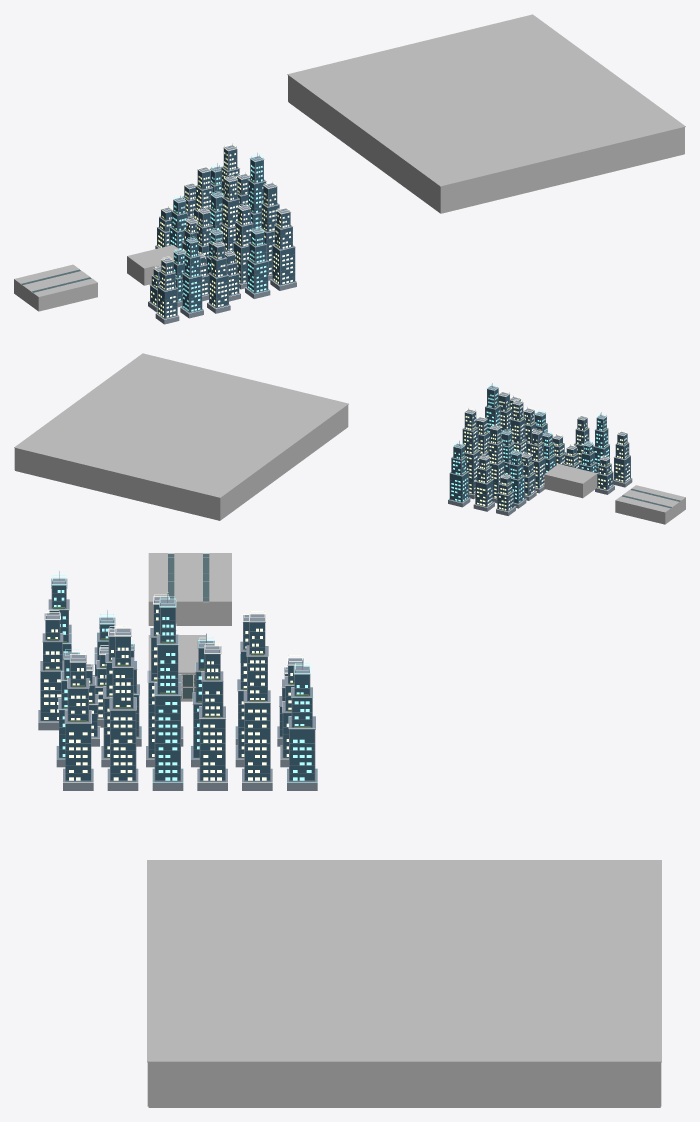
File: The_Commons_Compact.gltf
The picture shows the model from 3 angles, top to bottom: view 1: azimuth 30°, elevation 25°; view 2: azimuth 150°, elevation 25°; view 3: azimuth 270°, elevation 25°; orthographic projection. The views are drawn at different scales.
Visible parts, largest first — view 1: KART_Roof__MAT_KartSteel, ENV_City__MAT_CityGlazing, ENV_City__MAT_CityStone, KART_ShellSouth__MAT_KartConcrete, KART_ShellWest__MAT_KartConcrete, ENV_City__MAT_CityWarm, ENV_City__MAT_CityCool, FPV_Shell__MAT_Steel, FPV_Shell__MAT_FPVWall, ARCH_Shell__MAT_Steel; view 2: KART_Roof__MAT_KartSteel, ENV_City__MAT_CityGlazing, ENV_City__MAT_CityStone, KART_ShellNorth__MAT_KartConcrete, KART_ShellWest__MAT_KartConcrete, ENV_City__MAT_CityWarm, ENV_City__MAT_CityCool, FPV_Shell__MAT_Steel, FPV_Shell__MAT_FPVWall, ARCH_Shell__MAT_Plaster, ARCH_Shell__MAT_Steel, KART_Hall__MAT_KartFloor; view 3: KART_Roof__MAT_KartSteel, ENV_City__MAT_CityGlazing, KART_ShellEast__MAT_KartConcrete, ENV_City__MAT_CityStone, ENV_City__MAT_CityWarm, FPV_Shell__MAT_Steel, ENV_City__MAT_CityCool, FPV_Shell__MAT_FPVWall, ARCH_Shell__MAT_Steel.
Boxes of the visible parts, bbox=[...] form: KART_Roof__MAT_KartSteel: bbox=[287, 14, 685, 186]; ENV_City__MAT_CityGlazing: bbox=[150, 148, 294, 318]; ENV_City__MAT_CityStone: bbox=[148, 145, 296, 324]; KART_ShellSouth__MAT_KartConcrete: bbox=[440, 127, 684, 213]; KART_ShellWest__MAT_KartConcrete: bbox=[288, 75, 440, 212]; ENV_City__MAT_CityWarm: bbox=[148, 143, 296, 319]; ENV_City__MAT_CityCool: bbox=[169, 152, 270, 313]; FPV_Shell__MAT_Steel: bbox=[14, 264, 97, 297]; FPV_Shell__MAT_FPVWall: bbox=[14, 270, 97, 310]; ARCH_Shell__MAT_Steel: bbox=[127, 245, 179, 268]; KART_Roof__MAT_KartSteel: bbox=[14, 353, 348, 498]; ENV_City__MAT_CityGlazing: bbox=[450, 389, 630, 510]; ENV_City__MAT_CityStone: bbox=[448, 383, 632, 515]; KART_ShellNorth__MAT_KartConcrete: bbox=[15, 448, 219, 520]; KART_ShellWest__MAT_KartConcrete: bbox=[220, 405, 348, 520]; ENV_City__MAT_CityWarm: bbox=[464, 390, 632, 512]; ENV_City__MAT_CityCool: bbox=[448, 382, 609, 504]; FPV_Shell__MAT_Steel: bbox=[615, 485, 685, 512]; FPV_Shell__MAT_FPVWall: bbox=[615, 498, 685, 524]; ARCH_Shell__MAT_Plaster: bbox=[544, 474, 597, 497]; ARCH_Shell__MAT_Steel: bbox=[544, 464, 596, 483]; KART_Hall__MAT_KartFloor: bbox=[15, 427, 347, 520]; KART_Roof__MAT_KartSteel: bbox=[147, 860, 661, 1062]; ENV_City__MAT_CityGlazing: bbox=[41, 585, 314, 781]; KART_ShellEast__MAT_KartConcrete: bbox=[148, 1062, 660, 1106]; ENV_City__MAT_CityStone: bbox=[38, 571, 317, 790]; ENV_City__MAT_CityWarm: bbox=[38, 586, 304, 782]; FPV_Shell__MAT_Steel: bbox=[148, 553, 231, 602]; ENV_City__MAT_CityCool: bbox=[49, 570, 317, 782]; FPV_Shell__MAT_FPVWall: bbox=[148, 602, 231, 625]; ARCH_Shell__MAT_Steel: bbox=[148, 635, 205, 698].
Size of the model in its own units: 392 by 66.11 by 195.
